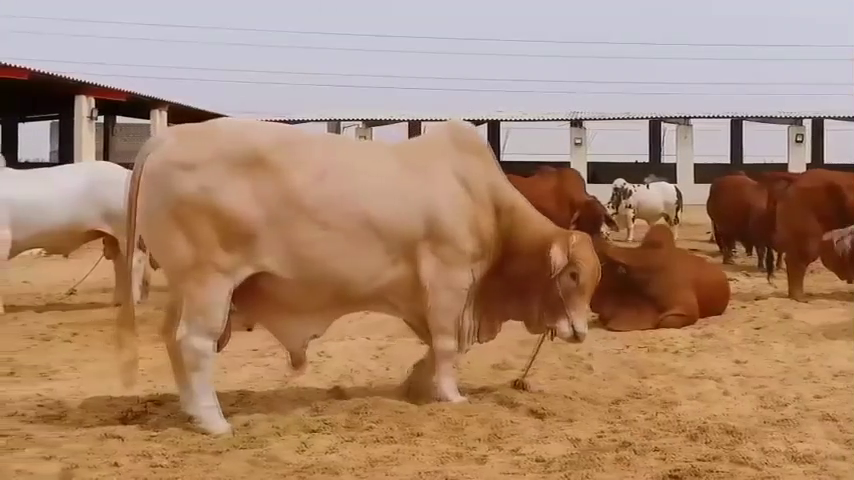bo: (107, 110, 606, 434), (4, 151, 151, 299), (570, 216, 734, 336), (752, 155, 854, 309), (500, 150, 607, 242), (599, 157, 690, 248), (705, 157, 768, 271)
